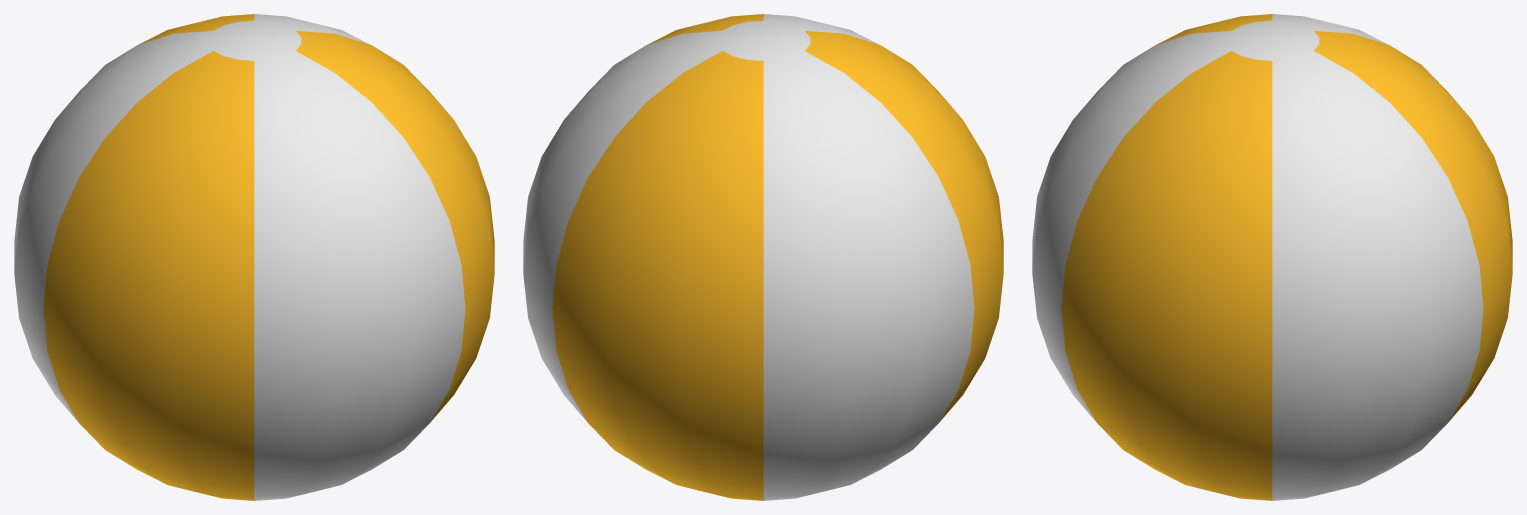
File: ball_teamYellow-col.glb
3 views of the same model, side by side, from view 1: azimuth 30°, elevation 25°; view 2: azimuth 150°, elevation 25°; view 3: azimuth 270°, elevation 25° (orthographic).
Parts seen in each view (by area): view 1: ball_teamYellow-col; view 2: ball_teamYellow-col; view 3: ball_teamYellow-col.
Boxes of the visible parts, <box> form: ball_teamYellow-col: <box>14,14,494,500</box>; ball_teamYellow-col: <box>523,14,1003,500</box>; ball_teamYellow-col: <box>1032,14,1512,500</box>.
Bounding box in the file's own units: 2 × 2 × 1.97.
